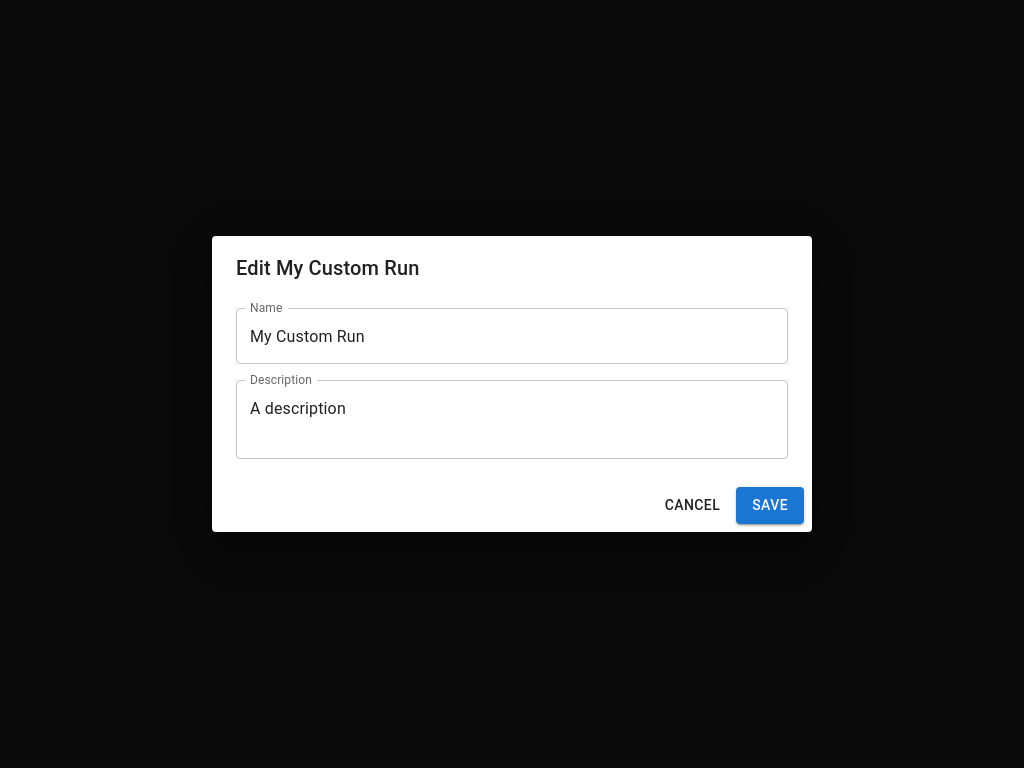
Test: EditEventGameDialog › blocks submit with an empty name for a custom game
Clear the field labelled "Name" at (512, 336), box [236, 308, 788, 364]
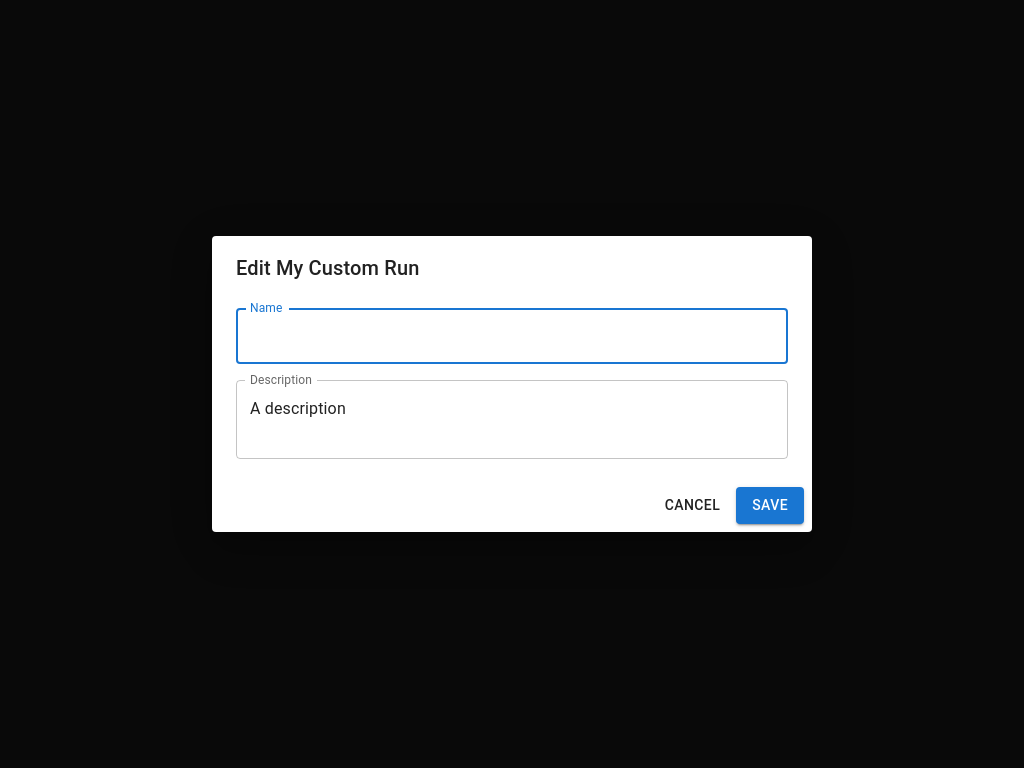
Click the button "Save" at (770, 506), box [736, 487, 804, 524]
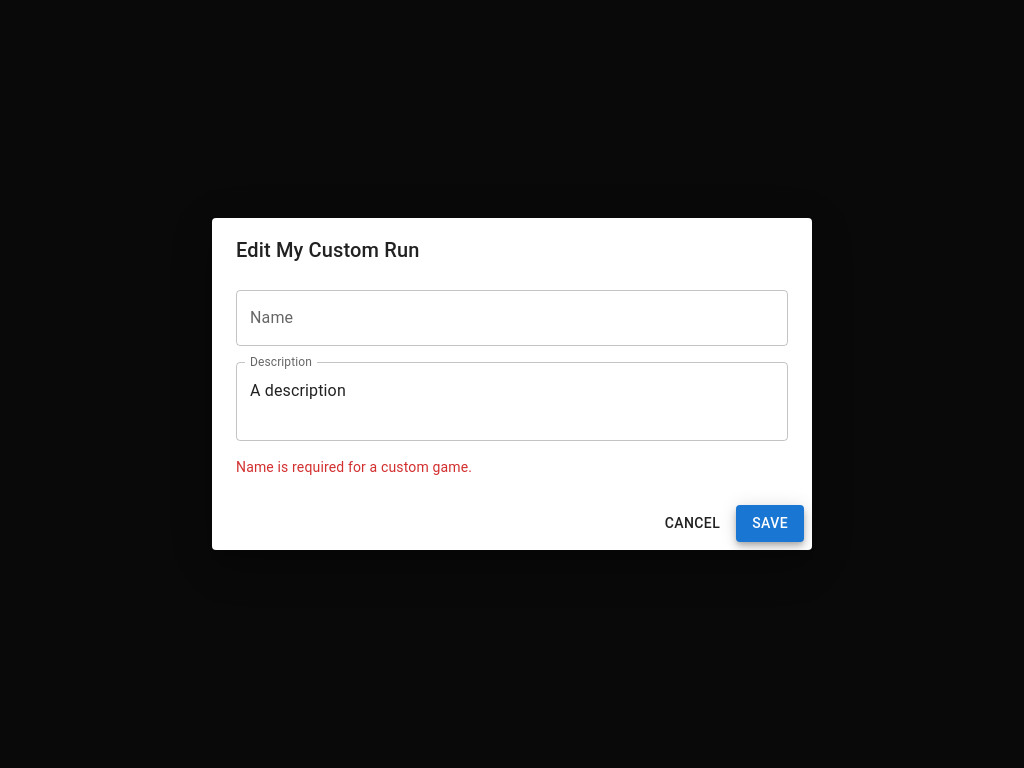
Now the text "Name is required for a custom game." is shown, box [236, 459, 472, 475]
